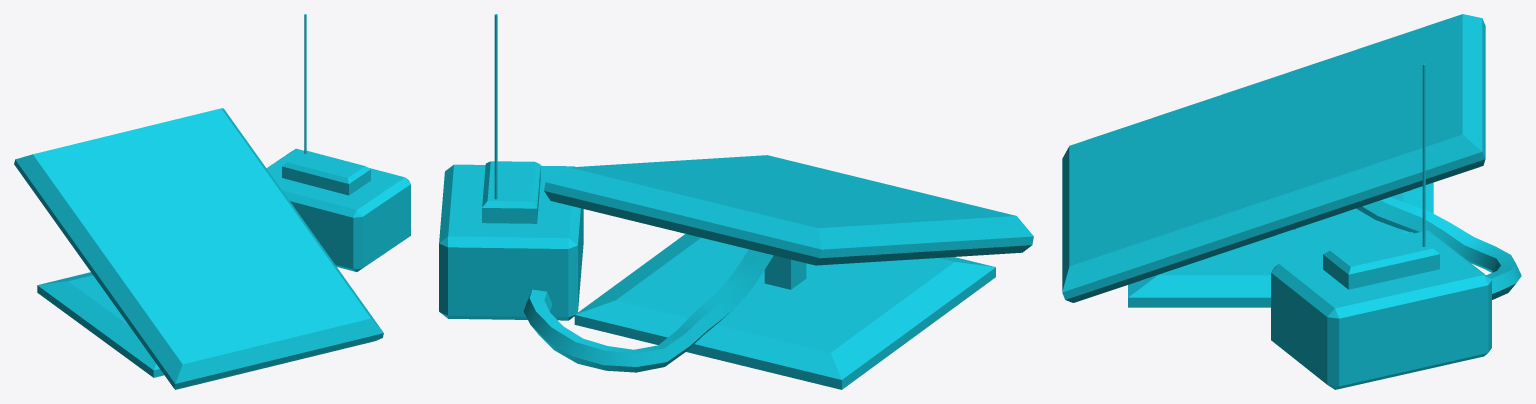
File: SM_SolarPanel.fbx
3 views of the same model, side by side, from view 1: azimuth 30°, elevation 25°; view 2: azimuth 150°, elevation 25°; view 3: azimuth 270°, elevation 25° (orthographic). The views are drawn at different scales.
Visible parts, largest first — view 1: SolarPanel; view 2: SolarPanel; view 3: SolarPanel.
Part boxes in pixels (x1,y1,x2,y2): SolarPanel: [14, 14, 410, 389]; SolarPanel: [439, 14, 1033, 389]; SolarPanel: [1062, 14, 1521, 389].
Bounding box in the file's own units: 423 × 261 × 378.
